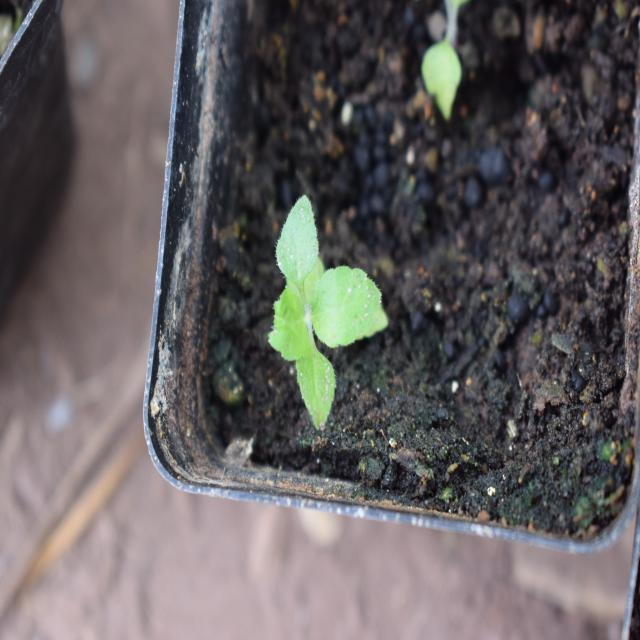billygoat_weed: (241, 178, 386, 406)
